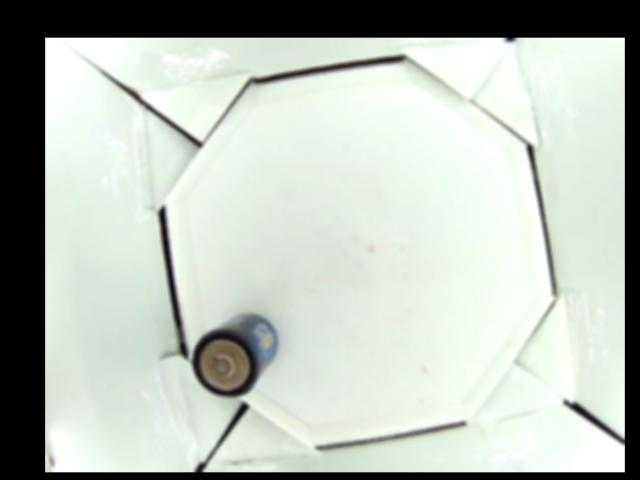Battery: (189, 314, 277, 398)
